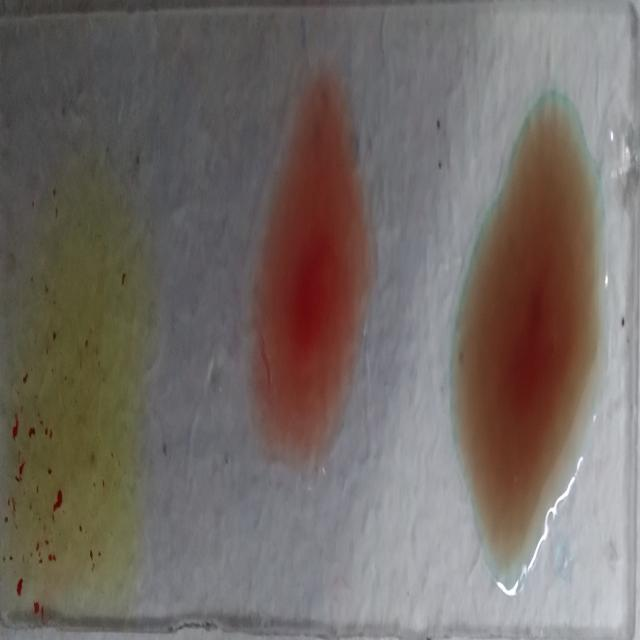B: (8, 171, 133, 620)
